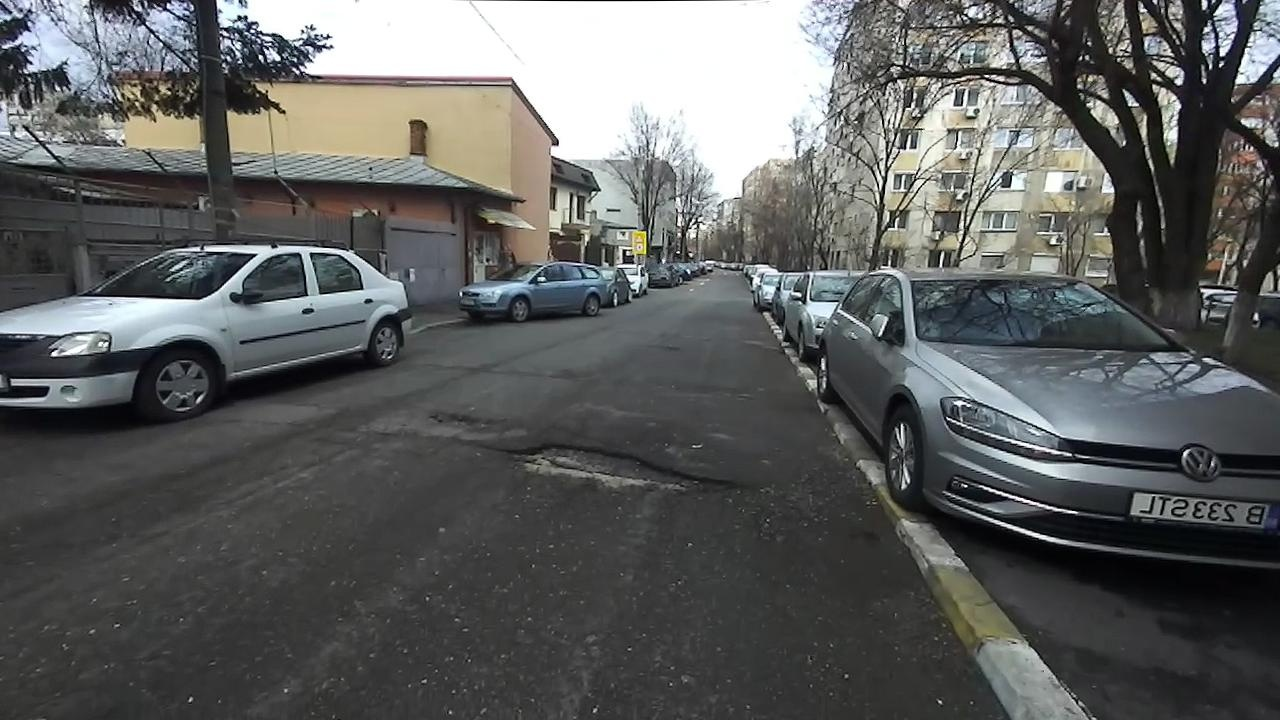pothole: (461, 437, 741, 497), (422, 402, 504, 428)
